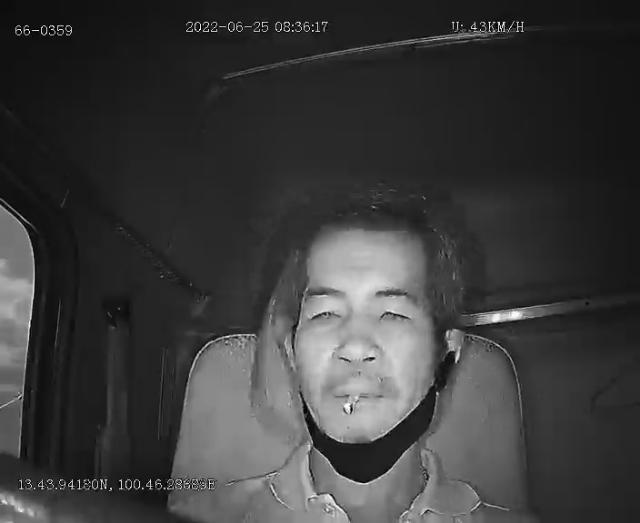SafeDriving: (369, 292, 418, 329), (302, 295, 350, 330)
Smoking: (344, 392, 360, 420)
